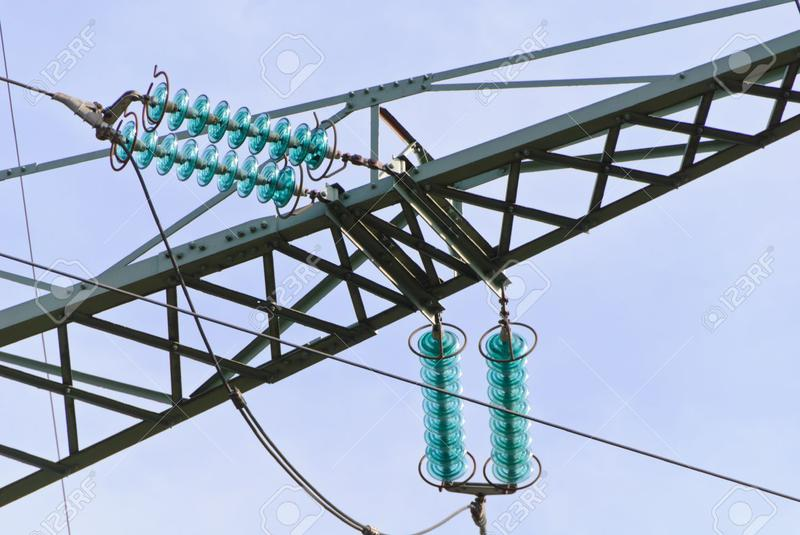isolator: (114, 82, 327, 208), (418, 329, 530, 483)
